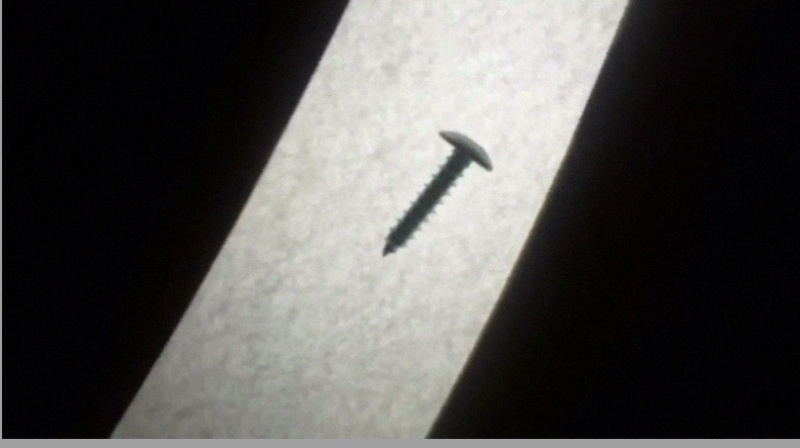S003: (375, 125, 498, 261)
